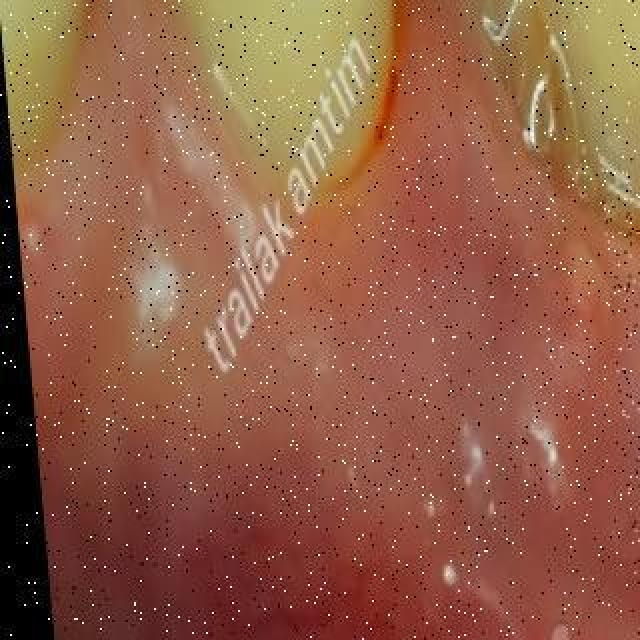cavities: (380, 0, 640, 258)
